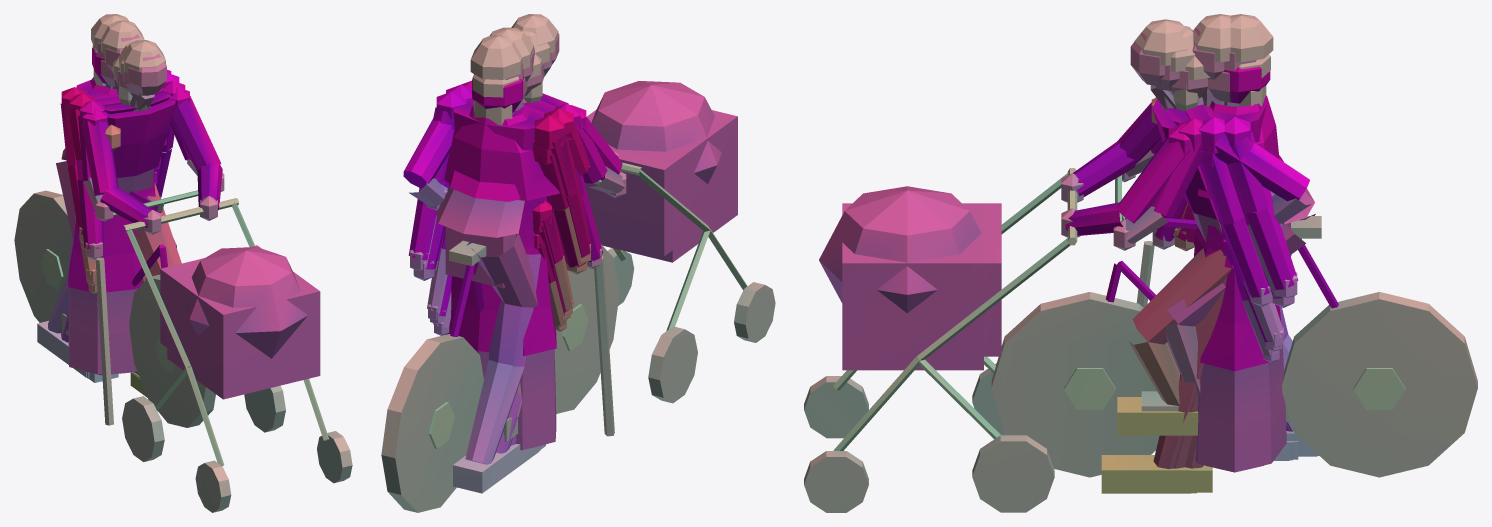
Rendered from people.glb.
The picture shows the model from 3 angles, left to right: view 1: azimuth 30°, elevation 25°; view 2: azimuth 150°, elevation 25°; view 3: azimuth 270°, elevation 25°; orthographic projection. The views are drawn at different scales.
Visible parts, largest first — view 1: people__parent_stroller__LOD0, people__cyclist__LOD0, people__tudung_baju_kurung__LOD0, people__jogger__LOD0, people__older_adult__LOD0, people__office_man__LOD0; view 2: people__cyclist__LOD0, people__parent_stroller__LOD0, people__tudung_baju_kurung__LOD0, people__jogger__LOD0, people__office_man__LOD0, people__school_boy__LOD0, people__older_adult__LOD0, people__office_woman__LOD0, people__child__LOD0, people__school_girl__LOD0; view 3: people__cyclist__LOD0, people__parent_stroller__LOD0, people__tudung_baju_kurung__LOD0, people__jogger__LOD0, people__office_man__LOD0, people__older_adult__LOD0, people__office_woman__LOD0, people__school_boy__LOD0, people__child__LOD0, people__school_girl__LOD0.
Boxes of the visible parts, <box> form: people__parent_stroller__LOD0: <box>65,42,352,512</box>; people__cyclist__LOD0: <box>14,40,224,427</box>; people__tudung_baju_kurung__LOD0: <box>68,47,166,374</box>; people__jogger__LOD0: <box>37,20,181,351</box>; people__older_adult__LOD0: <box>76,58,174,425</box>; people__office_man__LOD0: <box>50,14,171,377</box>; people__cyclist__LOD0: <box>381,14,626,512</box>; people__parent_stroller__LOD0: <box>507,29,775,451</box>; people__tudung_baju_kurung__LOD0: <box>414,76,586,450</box>; people__jogger__LOD0: <box>403,27,589,493</box>; people__office_man__LOD0: <box>408,35,591,481</box>; people__school_boy__LOD0: <box>427,201,573,320</box>; people__older_adult__LOD0: <box>434,54,614,449</box>; people__office_woman__LOD0: <box>413,74,587,452</box>; people__child__LOD0: <box>433,234,567,335</box>; people__school_girl__LOD0: <box>430,224,570,448</box>; people__cyclist__LOD0: <box>991,19,1477,477</box>; people__parent_stroller__LOD0: <box>804,26,1295,512</box>; people__tudung_baju_kurung__LOD0: <box>1175,66,1316,472</box>; people__jogger__LOD0: <box>1117,14,1318,455</box>; people__office_man__LOD0: <box>1101,14,1298,493</box>; people__older_adult__LOD0: <box>1136,56,1295,492</box>; people__office_woman__LOD0: <box>1174,54,1317,456</box>; people__school_boy__LOD0: <box>1221,220,1298,459</box>; people__child__LOD0: <box>1223,239,1289,460</box>; people__school_girl__LOD0: <box>1194,231,1292,472</box>.
Size of what is drawn, in the model's own units: 0.6598 by 1.74 by 2.32.
